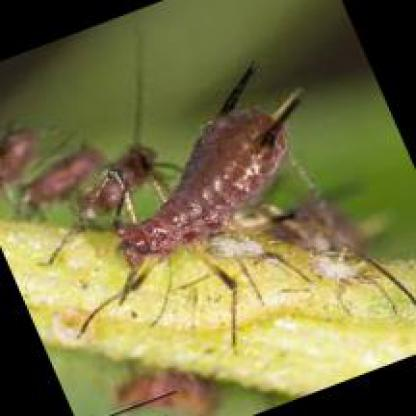uroleucon compositae: (116, 61, 303, 271)
